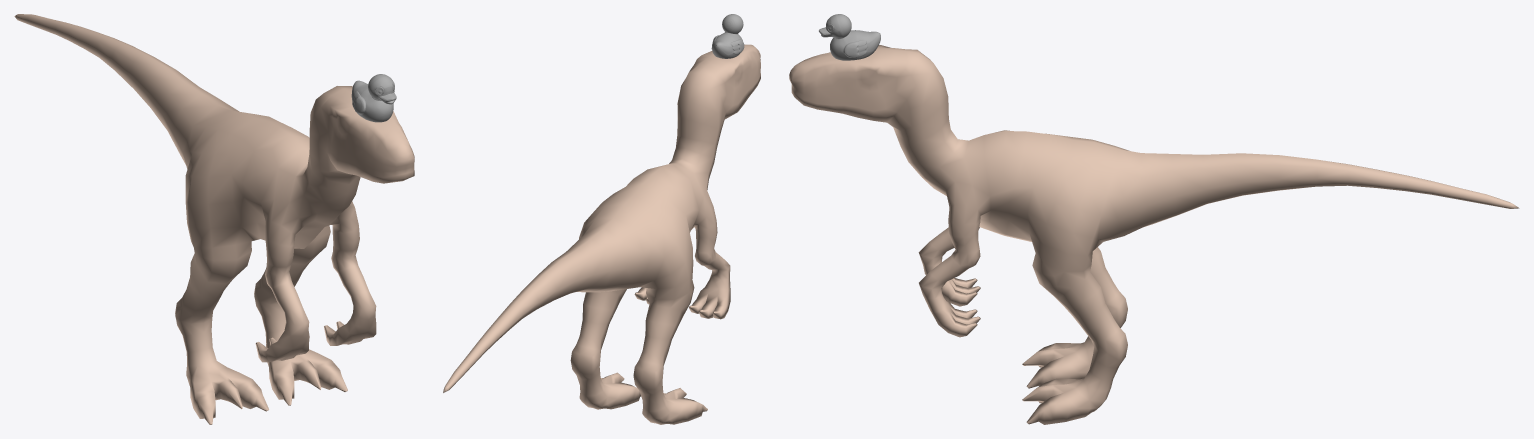
The model's file is RaptorDuck.fbx.
3 views of the same model, side by side, from view 1: azimuth 30°, elevation 25°; view 2: azimuth 150°, elevation 25°; view 3: azimuth 270°, elevation 25° (orthographic). The views are drawn at different scales.
Visible parts, largest first — view 1: _Rubber_duck1; view 2: _Rubber_duck1; view 3: _Rubber_duck1.
Part boxes in pixels (x1,y1,x2,y2): _Rubber_duck1: (14,14,414,424); _Rubber_duck1: (443,14,760,424); _Rubber_duck1: (789,14,1519,424).
Bounding box in the file's own units: 1.52 × 4.22 × 7.37.
